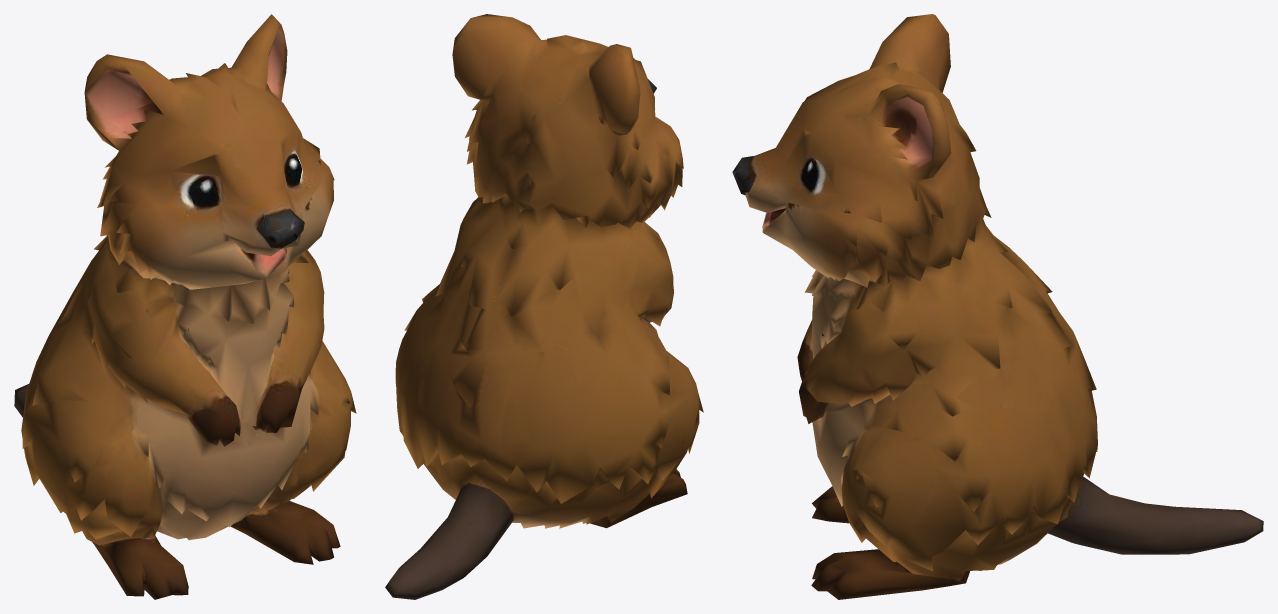
Rendered from quokka.glb.
The picture shows the model from 3 angles, left to right: view 1: azimuth 30°, elevation 25°; view 2: azimuth 150°, elevation 25°; view 3: azimuth 270°, elevation 25°; orthographic projection. The views are drawn at different scales.
Visible parts, largest first — view 1: model; view 2: model; view 3: model.
Part boxes in pixels (x1,y1,x2,y2): model: (14,14,356,599); model: (385,14,703,599); model: (732,14,1263,599).
Size of the model in its own units: 1.13 by 1.89 by 1.83.
1 material, 1 textured.
